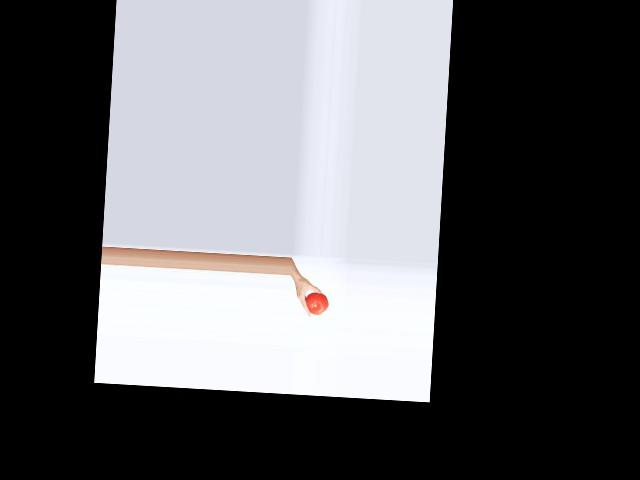tomato: (305, 292, 328, 316)
